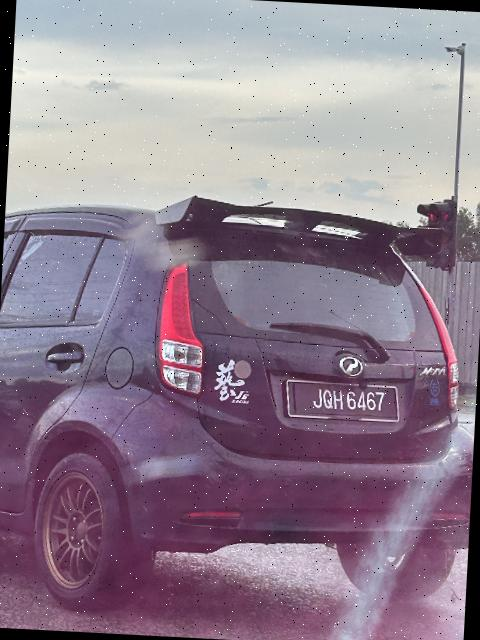License_Plate: (287, 371, 402, 429)
car: (1, 190, 480, 623)
